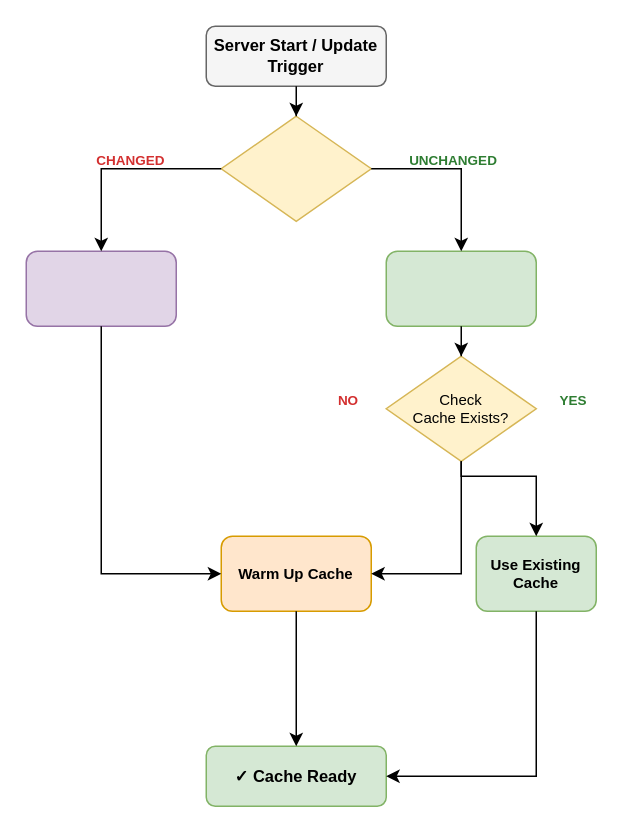
Some shapes in this 623 by 833 pixel diagram are drawn without their labels. Here are the shapes that lost their labels. From the top down, the centre of each, then its label:
point (295, 168): Check Commit Hash
point (100, 288): Swap Directories (mtimes change)
point (460, 288): Skip Swap
